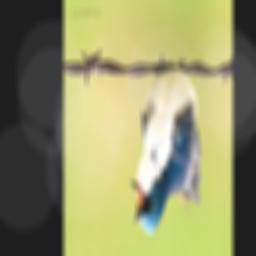Swallow: (129, 55, 202, 240)
